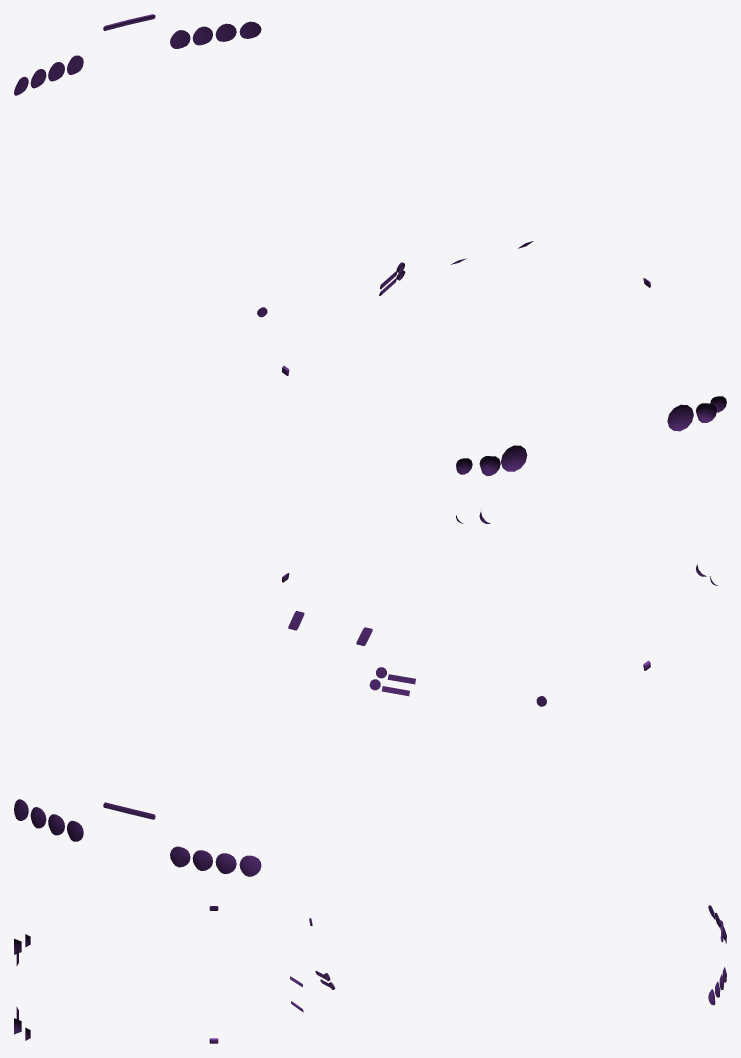
Rendered from Supra_Chassis_Detail.fbx.
3 views of the same model, one above another, from view 1: azimuth 30°, elevation 25°; view 2: azimuth 150°, elevation 25°; view 3: azimuth 270°, elevation 25° (orthographic). The views are drawn at different scales.
Visible parts, largest first — view 1: Supra_Chassis_Detail; view 2: Supra_Chassis_Detail; view 3: Supra_Chassis_Detail.
Part boxes in pixels (bbox=[...]): Supra_Chassis_Detail: bbox=[14, 14, 726, 475]; Supra_Chassis_Detail: bbox=[14, 512, 717, 876]; Supra_Chassis_Detail: bbox=[14, 905, 726, 1043].
Size of the model in its own units: 182 by 42.28 by 408.
